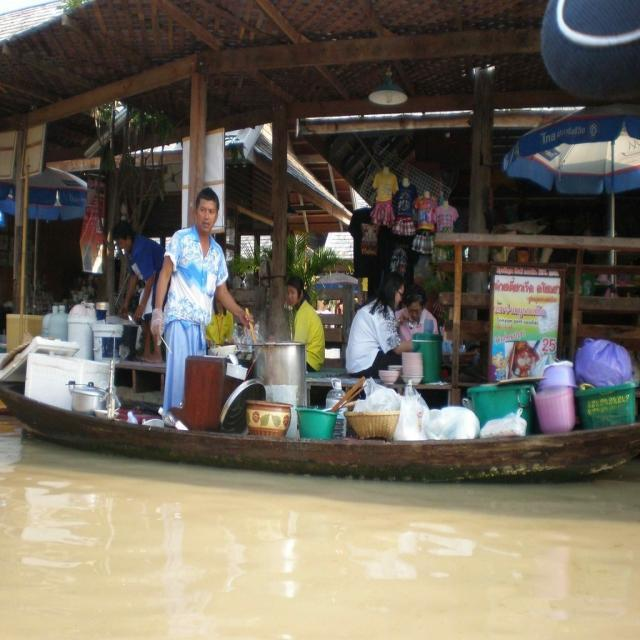boat: (2, 386, 640, 482)
